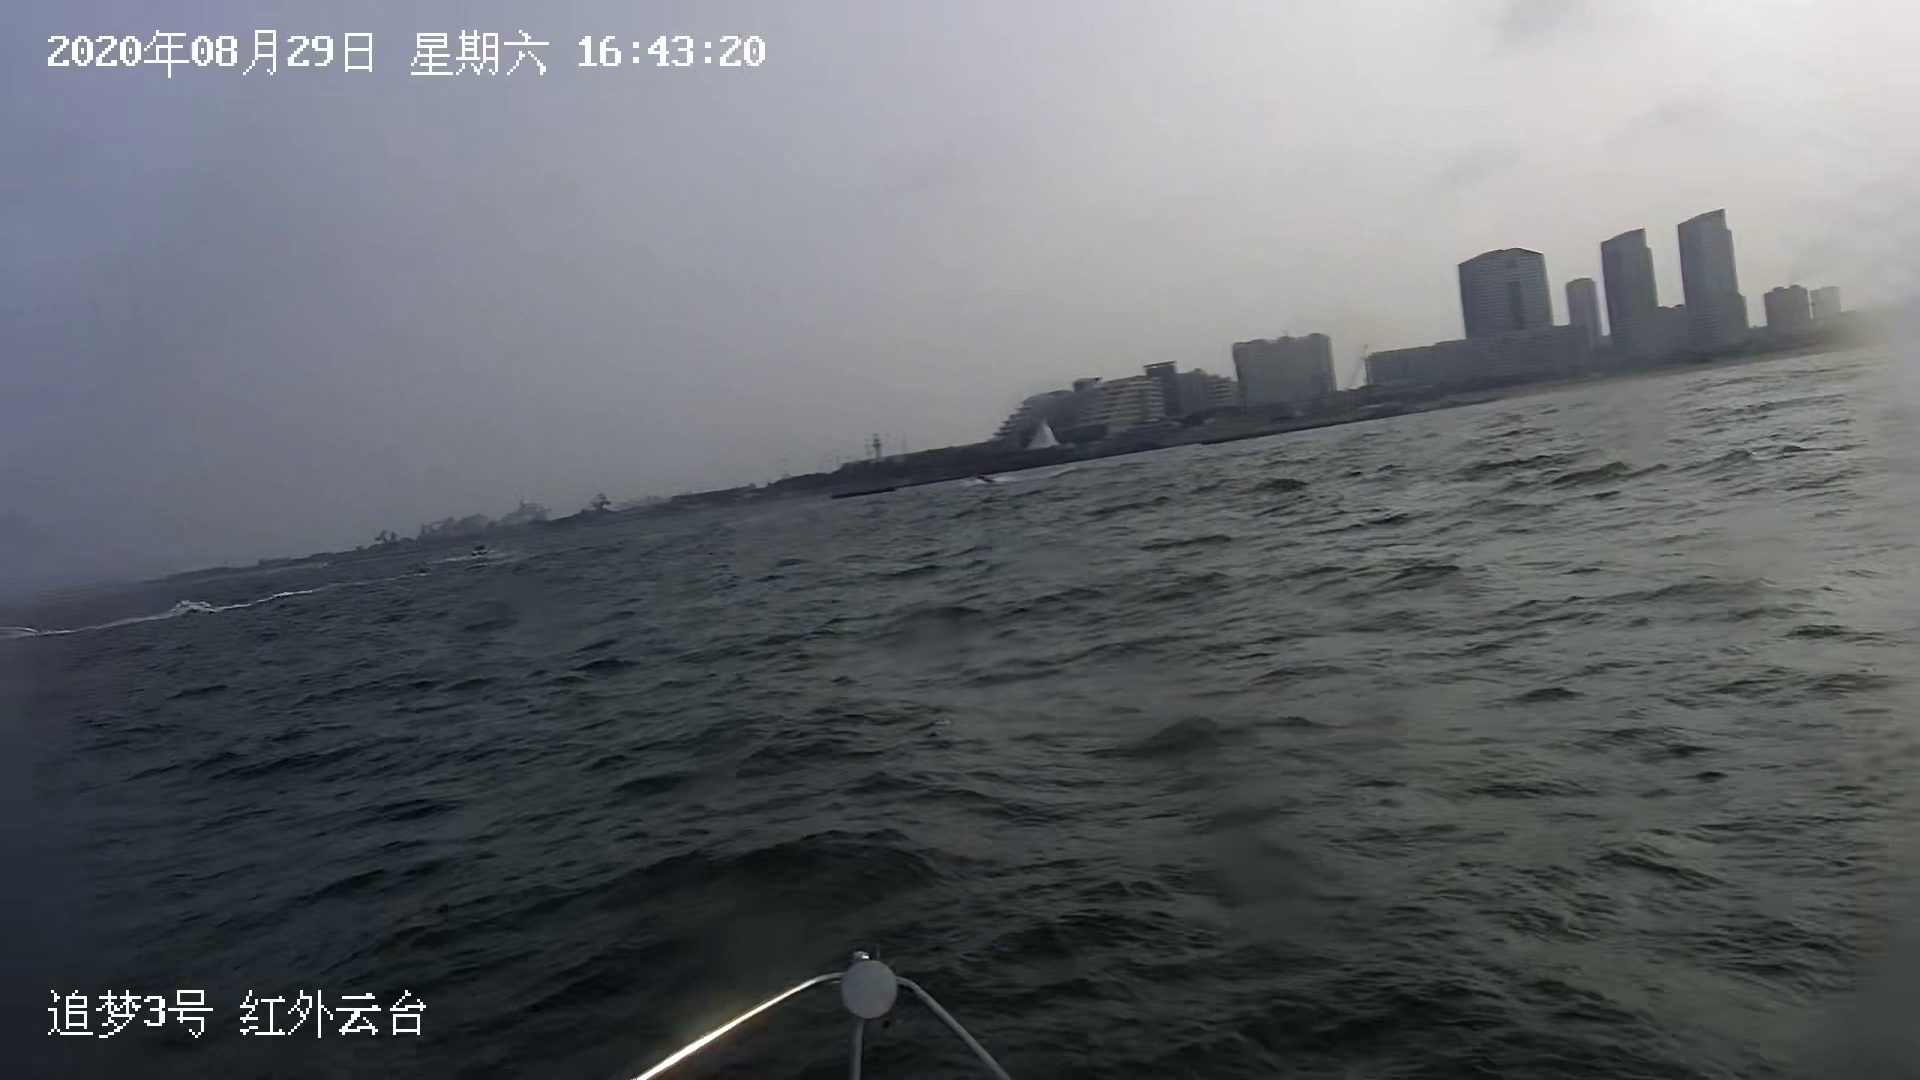coast: (1, 204, 1920, 611)
